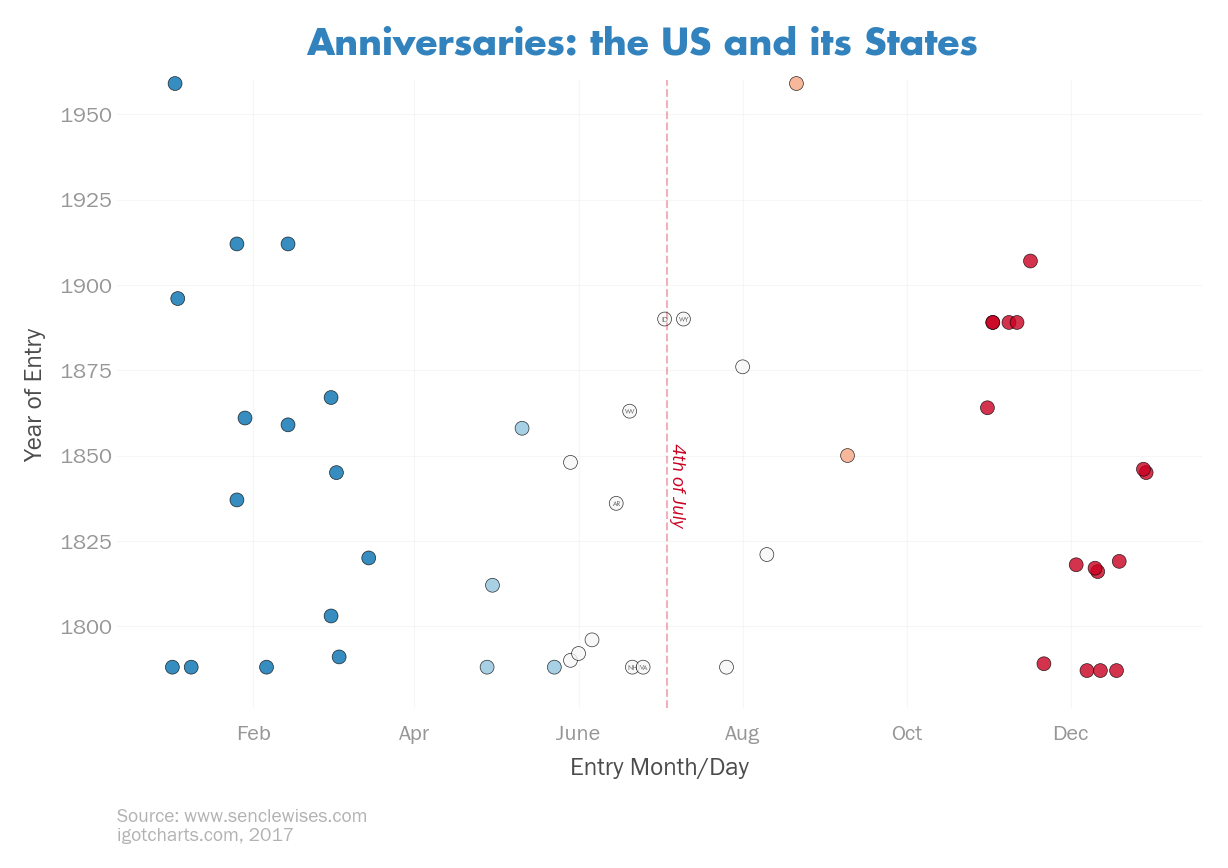

The dashboard page shown, as its layout file describes it:
{"tool":"tableau","page":{"name":"Dashboard 1","canvas":[1000,700],"ordinal":0},"visuals":[{"type":"worksheet","title":"Sheet 1","mark":"Shape","rows":["Function"],"cols":["Chart Type"],"box":[7,10,934,584]},{"type":"worksheet","title":"column totals","mark":"Automatic","cols":["Chart Type"],"box":[166,608,777,31]}]}

Visuals, with their boxes in screenshot pixels (x1, y1, x2, y2), scaled from the page's 1000x700 canvas onto the 1228x868 screenshot:
"Sheet 1" worksheet (Shape marks): x1=9 y1=12 x2=1156 y2=737
"column totals" worksheet: x1=204 y1=754 x2=1158 y2=792
